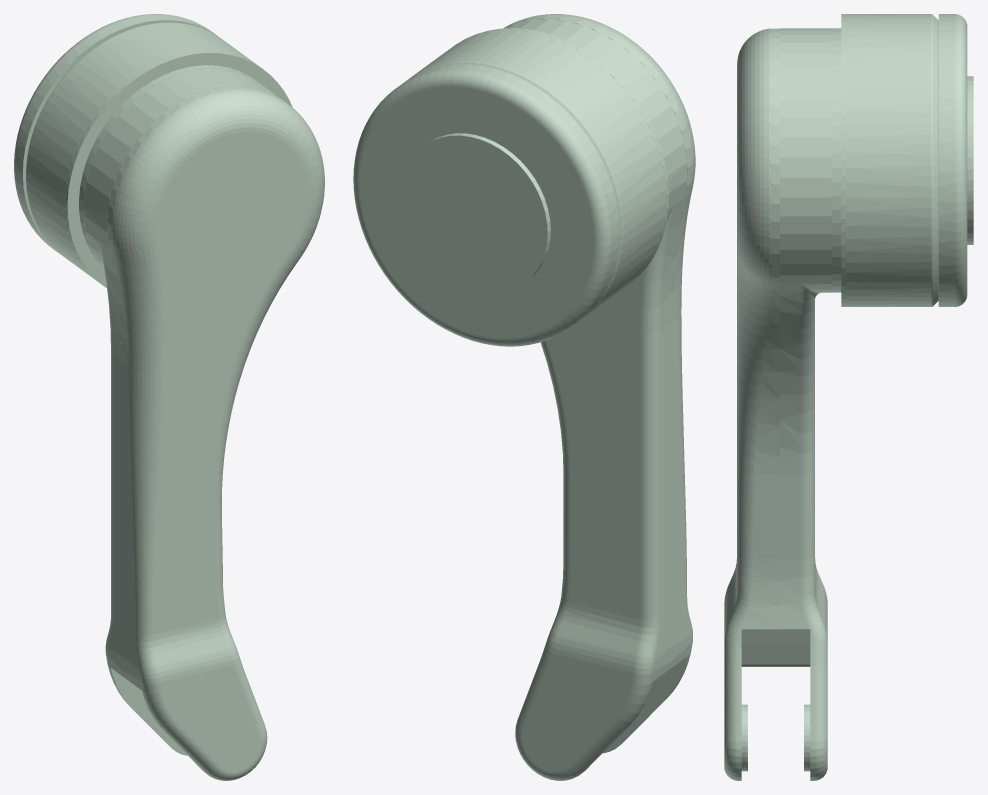
The model's file is thigh_mirror.dae.
3 renders of one model, left to right at view 1: azimuth 30°, elevation 25°; view 2: azimuth 150°, elevation 25°; view 3: azimuth 270°, elevation 25°, orthographic. The views are drawn at different scales.
Visible parts, largest first — view 1: Thigh Mirror; view 2: Thigh Mirror; view 3: Thigh Mirror.
Boxes of the visible parts, box(x1,y1,x2,y2) form: Thigh Mirror: box(14, 14, 324, 780); Thigh Mirror: box(353, 14, 695, 780); Thigh Mirror: box(724, 14, 973, 780).
Bounding box in the file's own units: 0.092 × 0.0783 × 0.2595.
